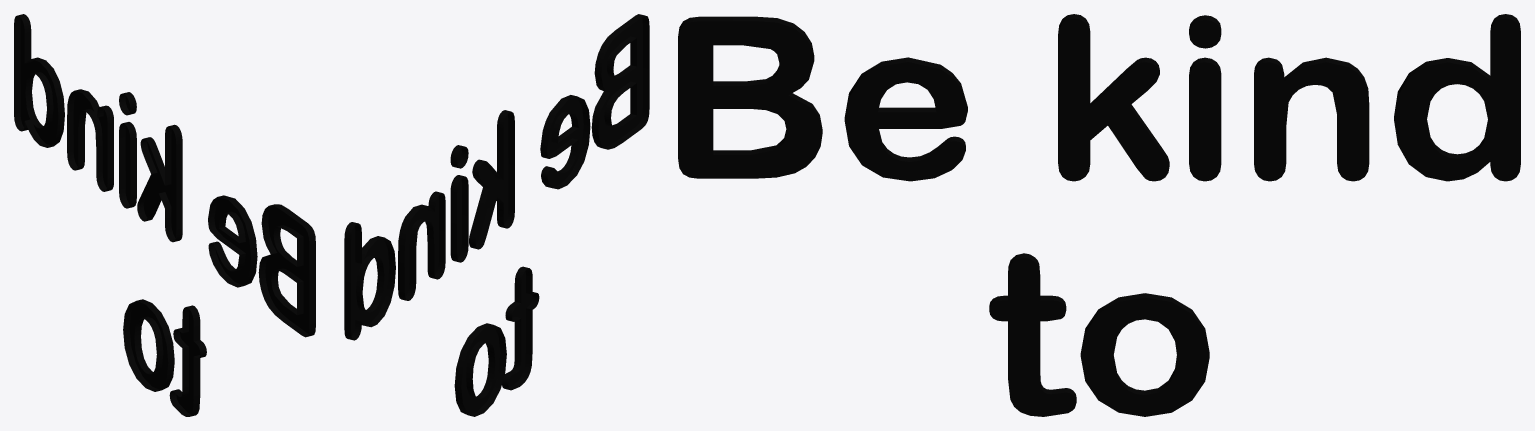
Rendered from Text_Credits02.fbx.
3 renders of one model, left to right at view 1: azimuth 30°, elevation 25°; view 2: azimuth 150°, elevation 25°; view 3: azimuth 270°, elevation 25°, orthographic. The views are drawn at different scales.
Visible parts, largest first — view 1: Text_Credits02; view 2: Text_Credits02; view 3: Text_Credits02.
Part boxes in pixels (bbox=[...]): Text_Credits02: bbox=[14, 14, 315, 416]; Text_Credits02: bbox=[344, 14, 649, 416]; Text_Credits02: bbox=[678, 14, 1520, 416].
Size of the model in its own units: 0.2 by 8.15 by 15.61.
Materials: 1 (1 with a texture image).
